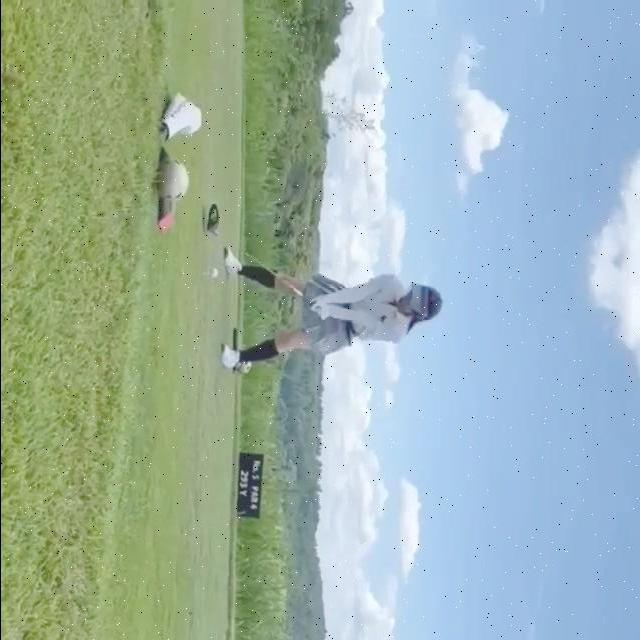ClubHandle: (206, 204, 315, 305)
ClubHead: (203, 202, 217, 235)
GolfBall: (211, 269, 217, 280)
